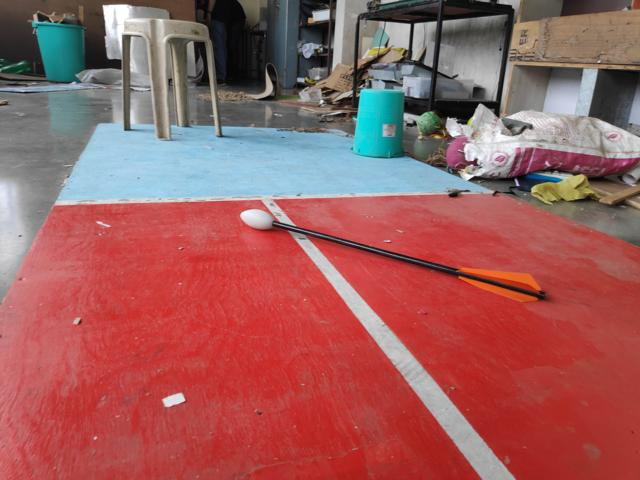Head: (235, 206, 278, 234)
Tail: (449, 262, 553, 309)
